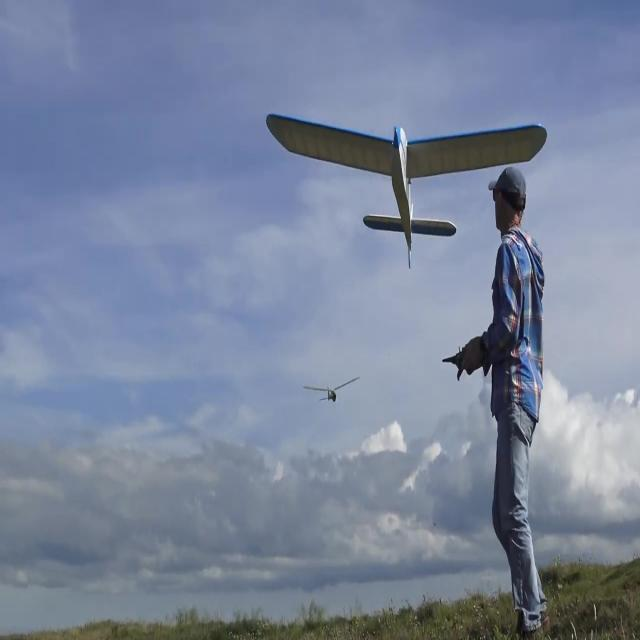iha: (266, 109, 548, 269), (296, 374, 353, 404)
